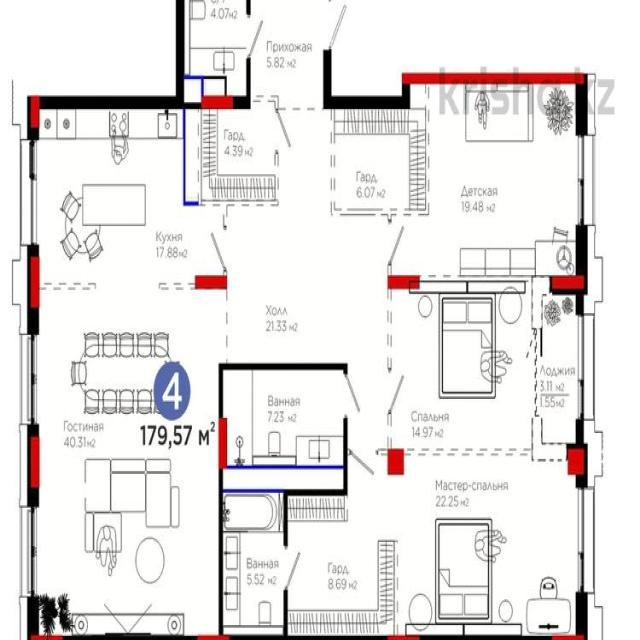balcony: (538, 293, 583, 452)
bathroom: (222, 370, 342, 467), (223, 496, 285, 635), (181, 0, 248, 89)
hallway: (231, 3, 388, 361)
kitchen: (37, 110, 186, 286)
living_room: (36, 295, 218, 636), (400, 462, 576, 635), (430, 89, 579, 280), (395, 292, 532, 451)
other: (290, 502, 391, 634), (336, 111, 422, 209), (202, 112, 276, 205)
